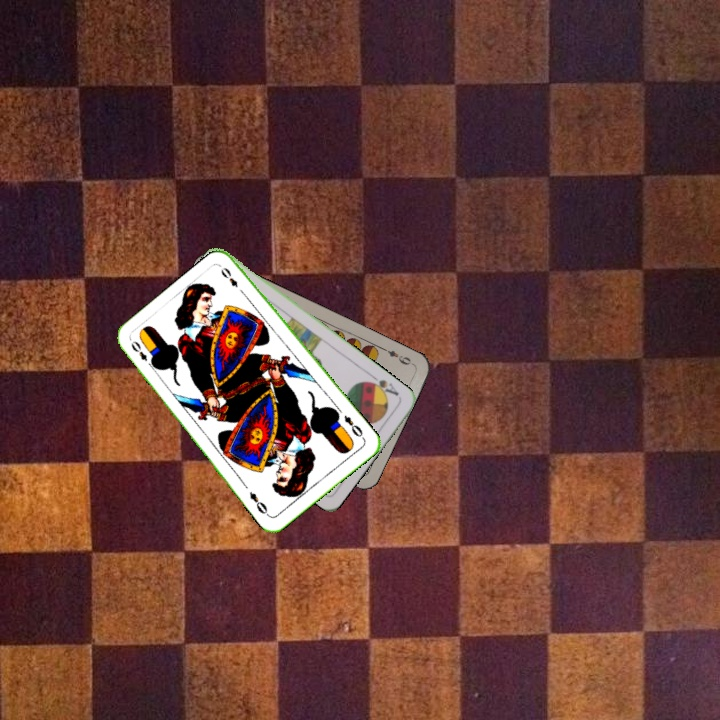E9: (378, 344, 416, 368)
EO: (127, 337, 157, 371), (340, 411, 367, 442)
SA: (363, 371, 401, 399)
